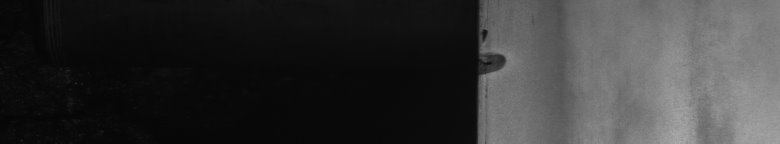hb: (488, 44, 513, 80)
